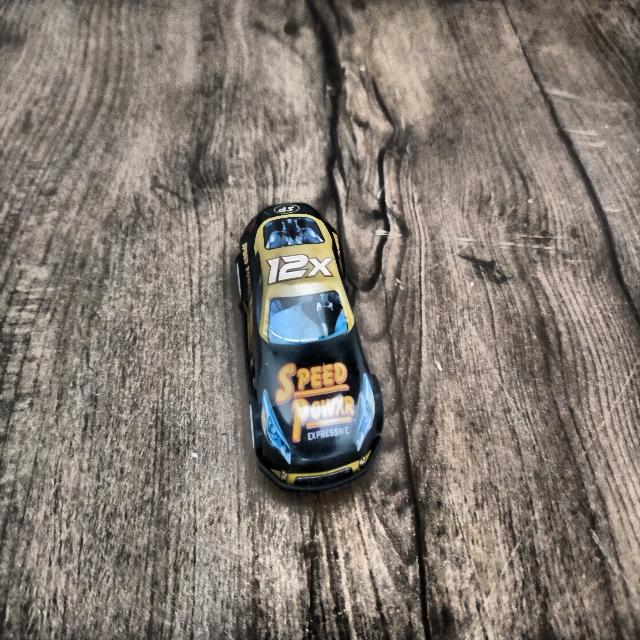Car: (236, 199, 390, 500)
